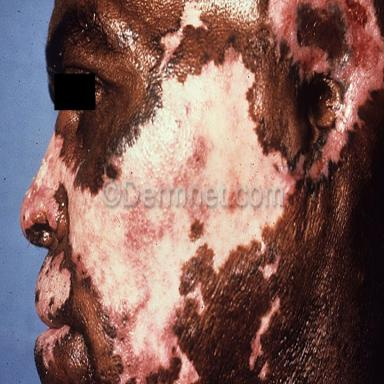Lupus-Erythematosus-Chronicus-Discoides: (21, 130, 284, 384), (109, 2, 384, 202), (35, 251, 71, 327), (249, 297, 281, 370), (35, 326, 69, 370), (259, 255, 280, 280), (258, 361, 269, 381)
